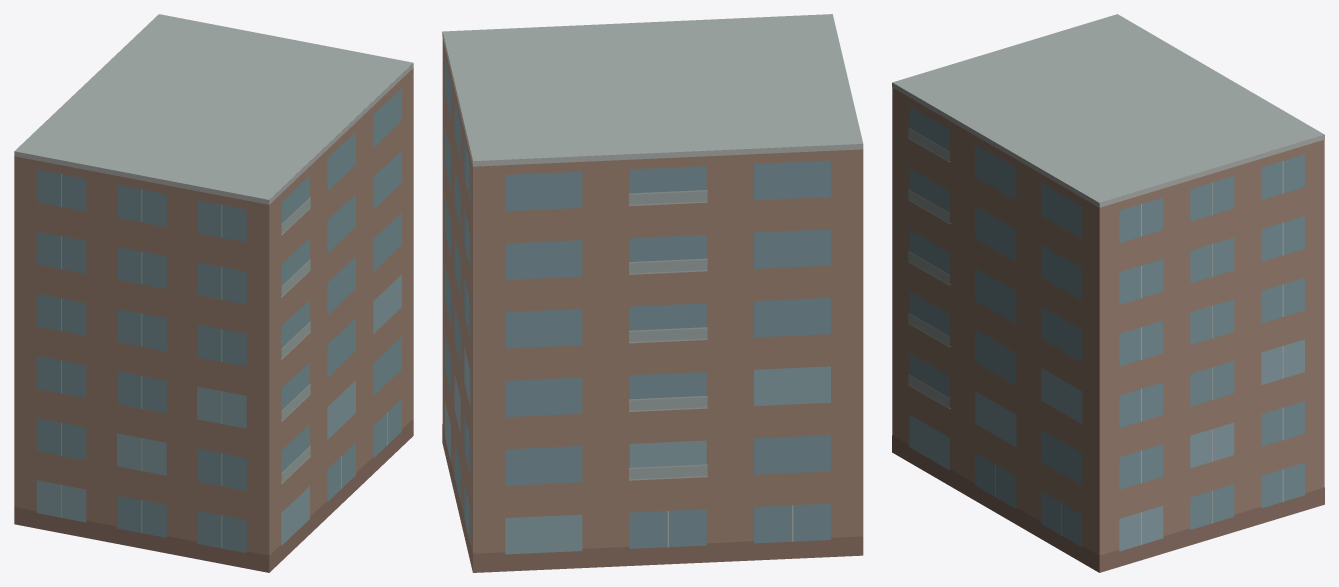
Rendered from survey-upis-32709379.glb.
3 views of the same model, side by side, from view 1: azimuth 30°, elevation 25°; view 2: azimuth 150°, elevation 25°; view 3: azimuth 270°, elevation 25° (orthographic). The views are drawn at different scales.
Visible parts, largest first — view 1: survey-upis-32709379.tmp; view 2: survey-upis-32709379.tmp; view 3: survey-upis-32709379.tmp.
Boxes of the visible parts, x1,y1,x2,y2 form: survey-upis-32709379.tmp: [14, 14, 413, 572]; survey-upis-32709379.tmp: [442, 14, 863, 572]; survey-upis-32709379.tmp: [892, 14, 1324, 572].
Bounding box in the file's own units: 20.05 × 18.3 × 19.4.
